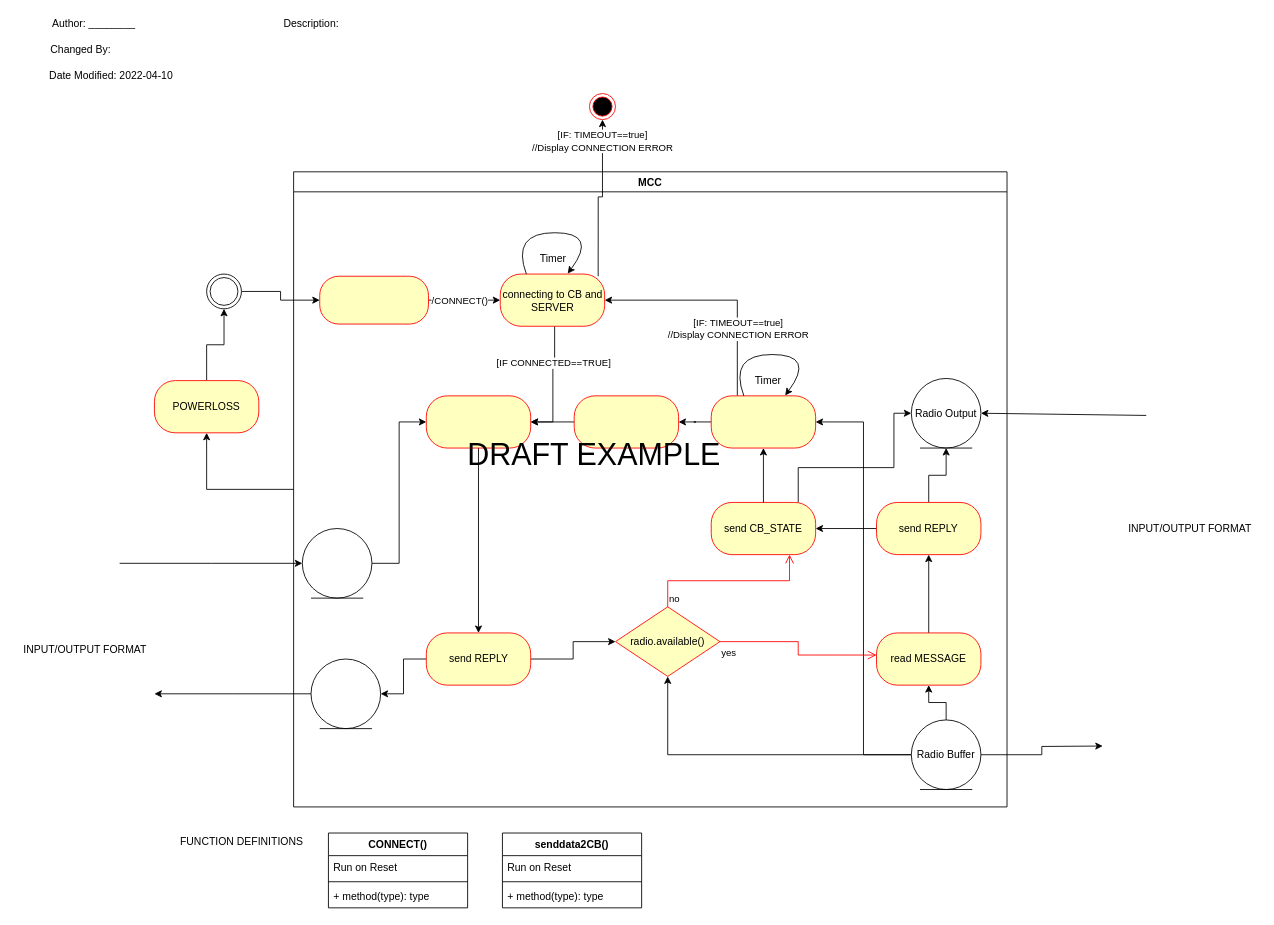
Image size: 1274x925. Some labels were removed from this diagram. Here are the shapes that lost their labels. From the top down, the centre of each, then its label:
point (373, 299): POWER ON
point (478, 421): read CB_STATE
point (626, 421): Display
point (763, 421): wait for REPLY
point (336, 563): Serial Buffer
point (345, 693): Serial Output
